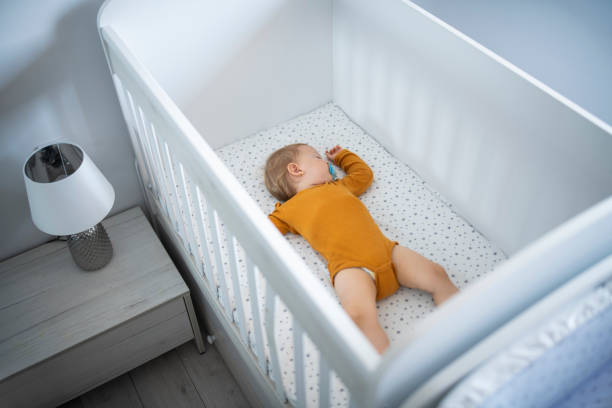baby: (265, 144, 456, 352)
crib: (98, 0, 611, 406)
